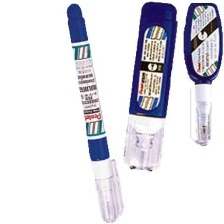correction_fluid: (65, 1, 126, 223), (121, 0, 181, 172), (182, 0, 224, 148)
